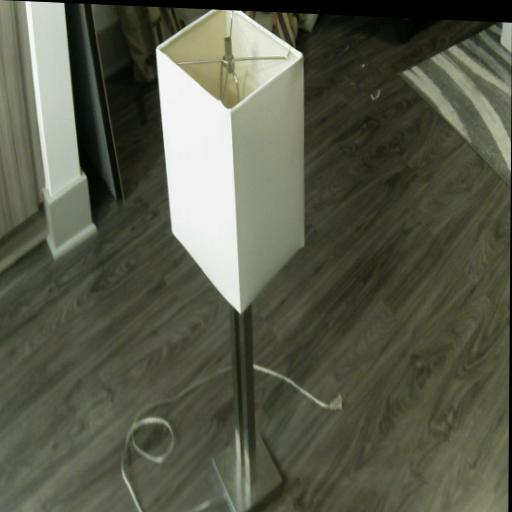lamp: (152, 7, 307, 512)
